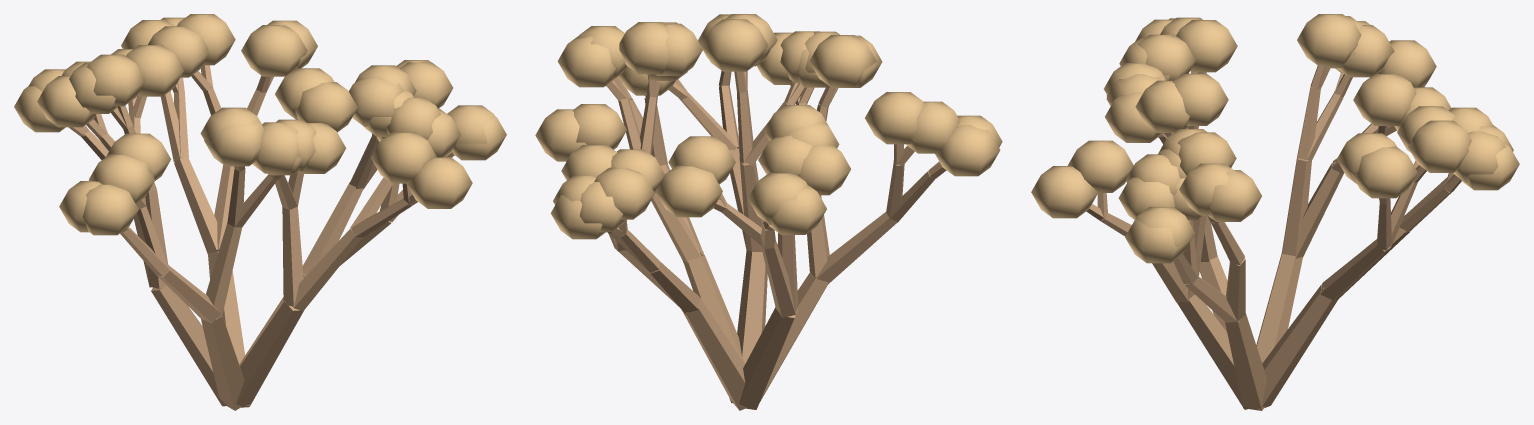
Rendered from Shrub_Dry.gltf.
3 views of the same model, side by side, from view 1: azimuth 30°, elevation 25°; view 2: azimuth 150°, elevation 25°; view 3: azimuth 270°, elevation 25° (orthographic).
Parts seen in each view (by area): view 1: Shrub_Dry; view 2: Shrub_Dry; view 3: Shrub_Dry.
Boxes of the visible parts, x1,y1,x2,y2 form: Shrub_Dry: [14, 14, 506, 410]; Shrub_Dry: [535, 14, 1002, 410]; Shrub_Dry: [1031, 14, 1519, 410].
Size of the model in its own units: 0.7266 by 0.5739 by 0.723.
